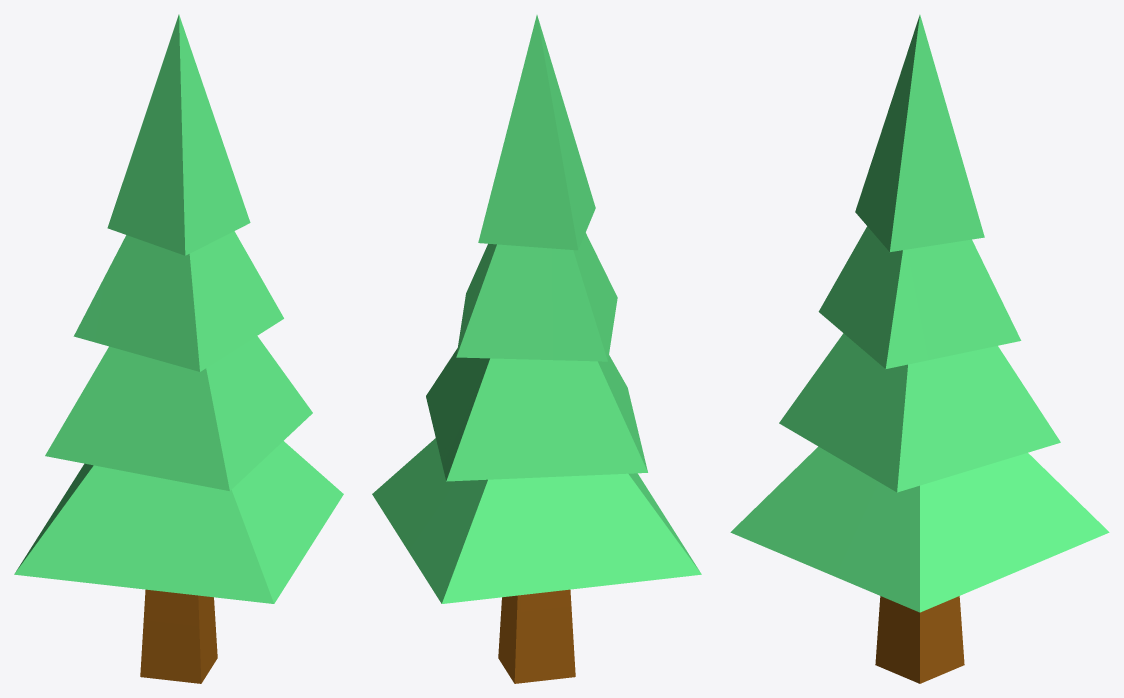
The model's file is tree.glb.
3 views of the same model, side by side, from view 1: azimuth 30°, elevation 25°; view 2: azimuth 150°, elevation 25°; view 3: azimuth 270°, elevation 25° (orthographic).
Visible parts, largest first — view 1: Cube; view 2: Cube; view 3: Cube.
Boxes of the visible parts, x1,y1,x2,y2 form: Cube: (14, 14, 343, 683); Cube: (372, 15, 701, 683); Cube: (730, 15, 1109, 683).
Size of the model in its own units: 6.02 by 11.4 by 6.02.
